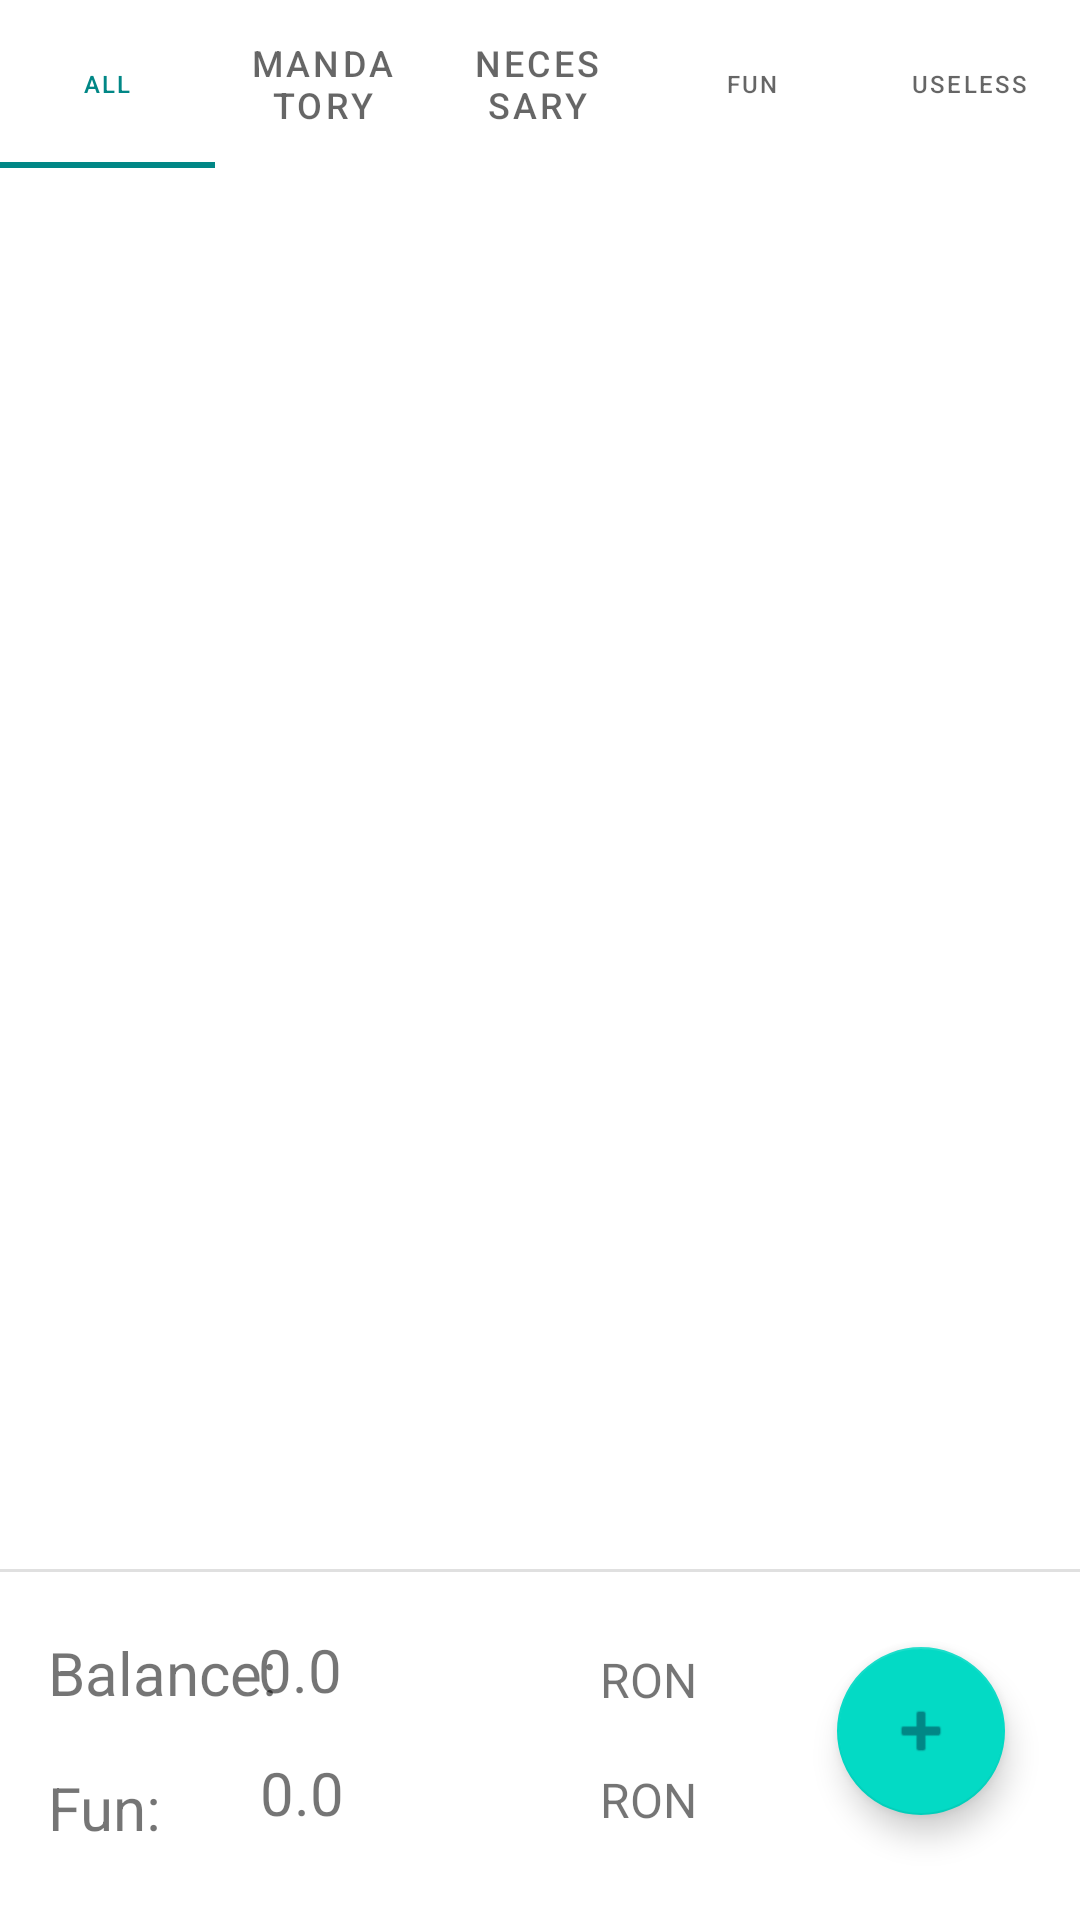

Where icons sit on this 1080w x 1920h app screen, as detection(x1, y1, x2, y2):
add: detection(837, 1647, 1005, 1815)
